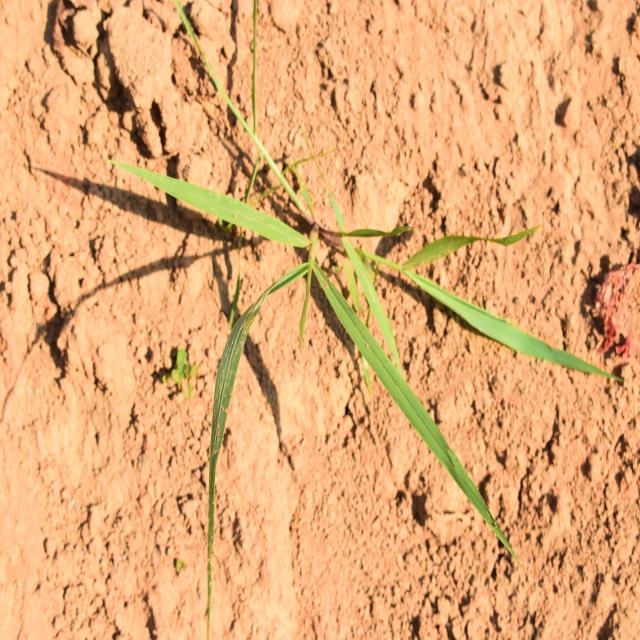green_foxtail: (176, 168, 499, 515)
